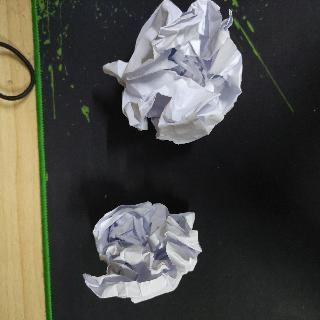8/可回收垃圾/纸: (102, 1, 245, 146), (81, 199, 204, 306)
